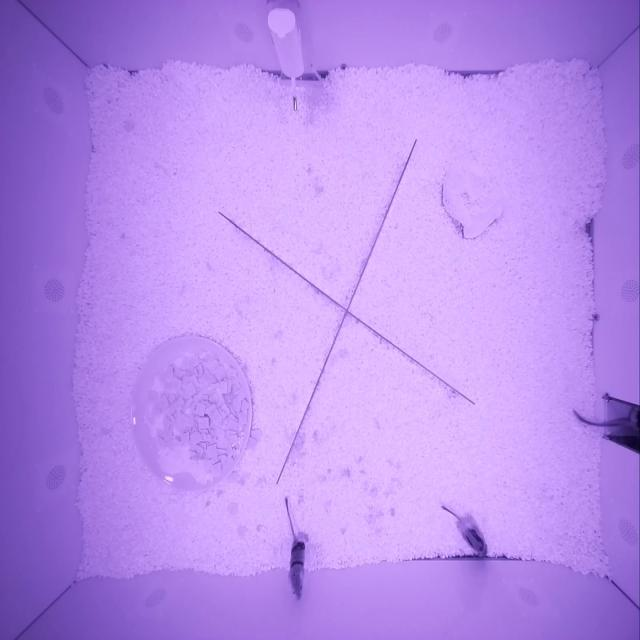adult_back: (630, 406, 640, 437)
pup_h_stripe: (288, 540, 305, 599)
pup_v_stripe: (456, 517, 487, 557)
